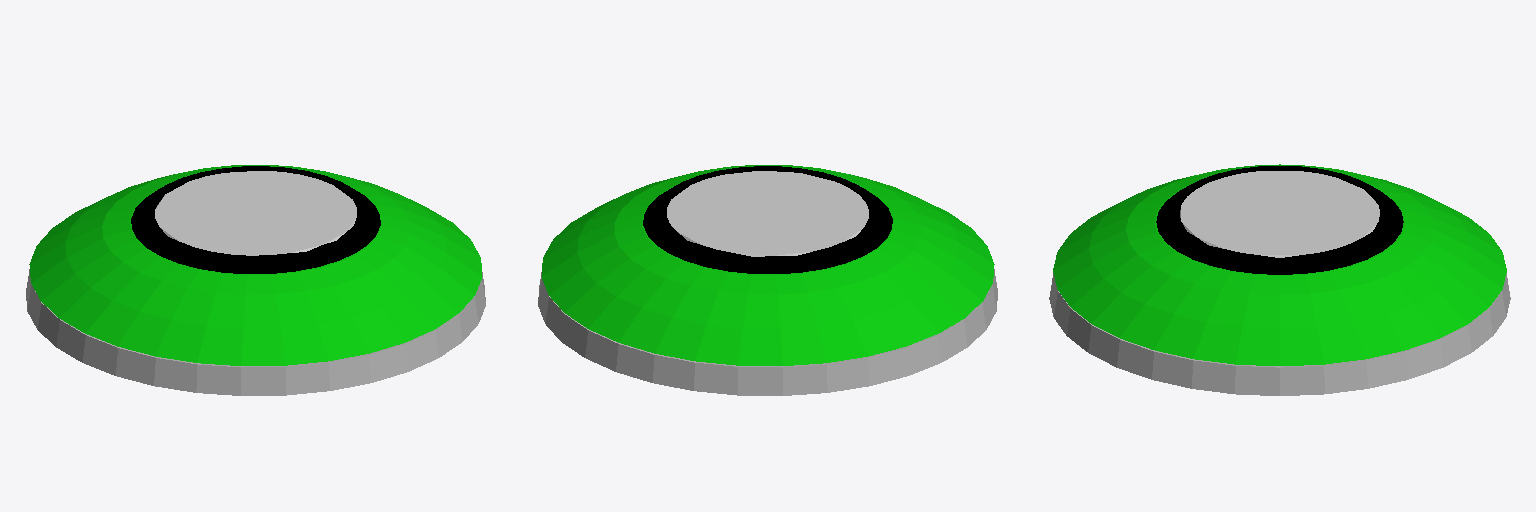
File: note_reshape.obj
3 renders of one model, left to right at view 1: azimuth 30°, elevation 25°; view 2: azimuth 150°, elevation 25°; view 3: azimuth 270°, elevation 25°, orthographic.
Visible parts, largest first — view 1: GH_Note:Mesh; view 2: GH_Note:Mesh; view 3: GH_Note:Mesh.
Boxes of the visible parts, x1,y1,x2,y2 form: GH_Note:Mesh: [26, 165, 485, 395]; GH_Note:Mesh: [538, 165, 997, 395]; GH_Note:Mesh: [1049, 164, 1510, 395].
Bounding box in the file's own units: 1.86 × 0.3816 × 1.86.